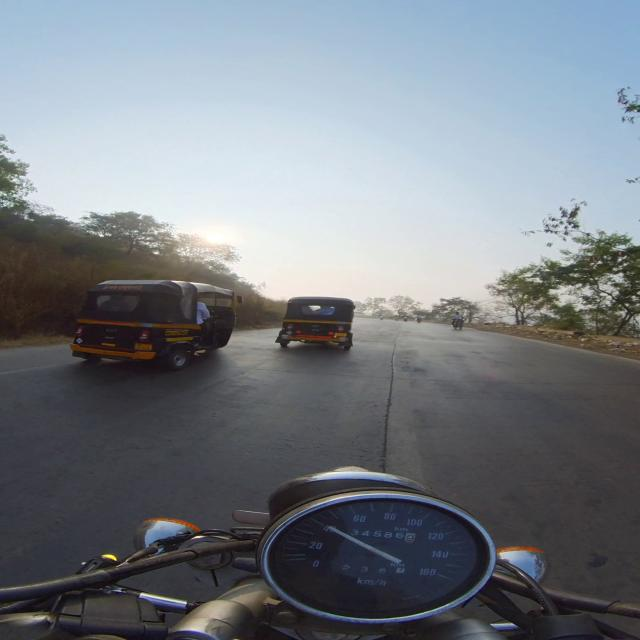motorcycle: (0, 467, 639, 639), (452, 319, 463, 330)
